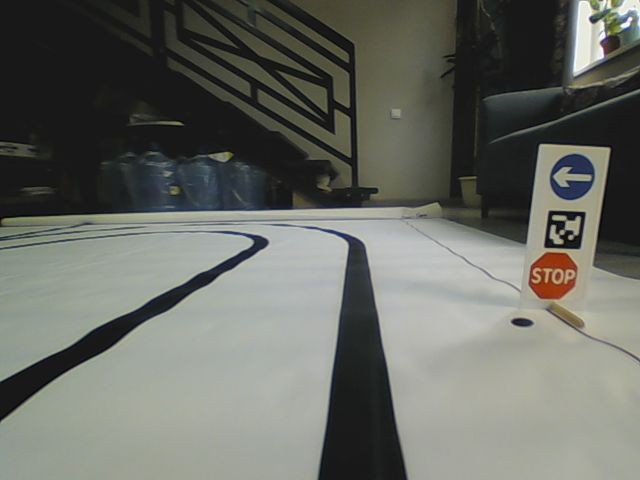Stop: (528, 253, 578, 299)
